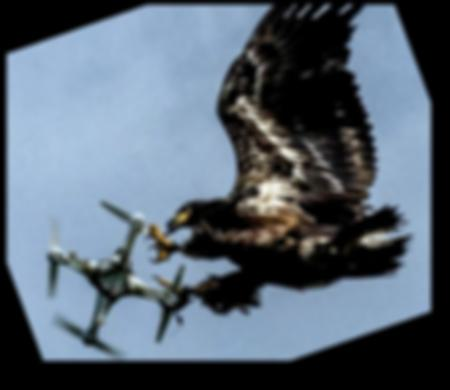Bird: (142, 5, 414, 314)
UAV: (37, 194, 197, 354)
